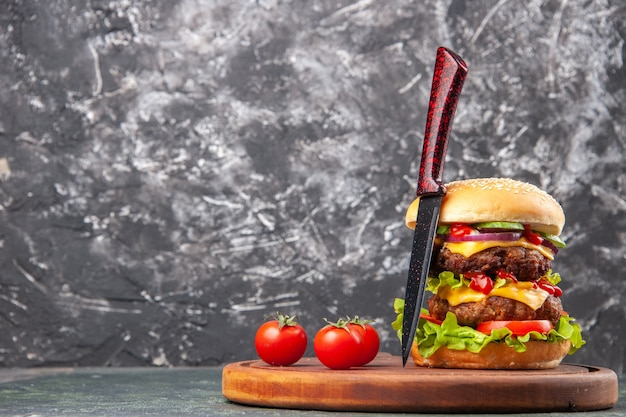knife: (400, 45, 469, 370)
